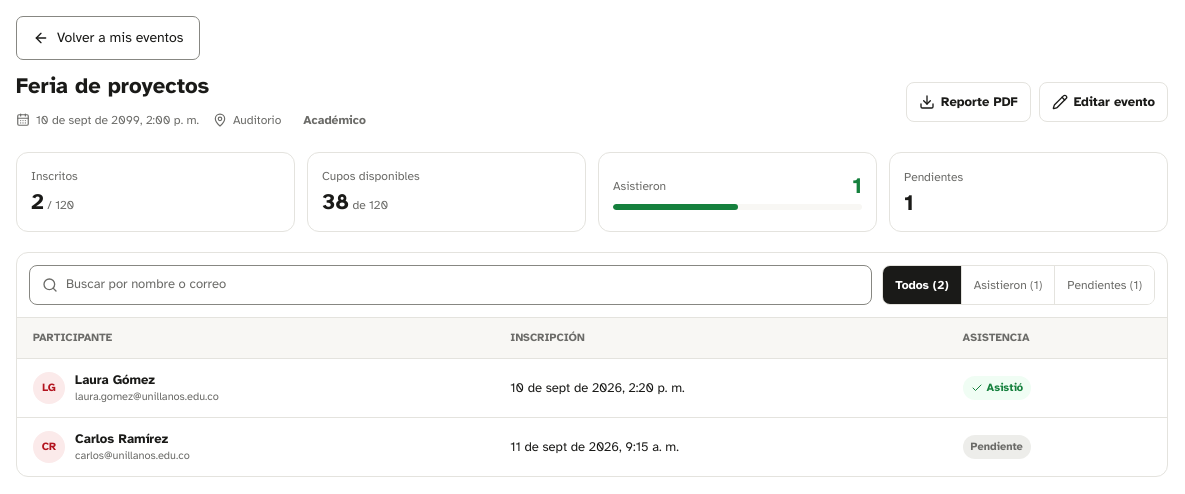
it: ParticipantesEvento › muestra el estado vacío de la búsqueda cuando no hay coincidencias
Step 1. Type "no-existe" into the search field labelled "Buscar por nombre o correo" → (463, 285), box x1=66 y1=275 x2=859 y2=295
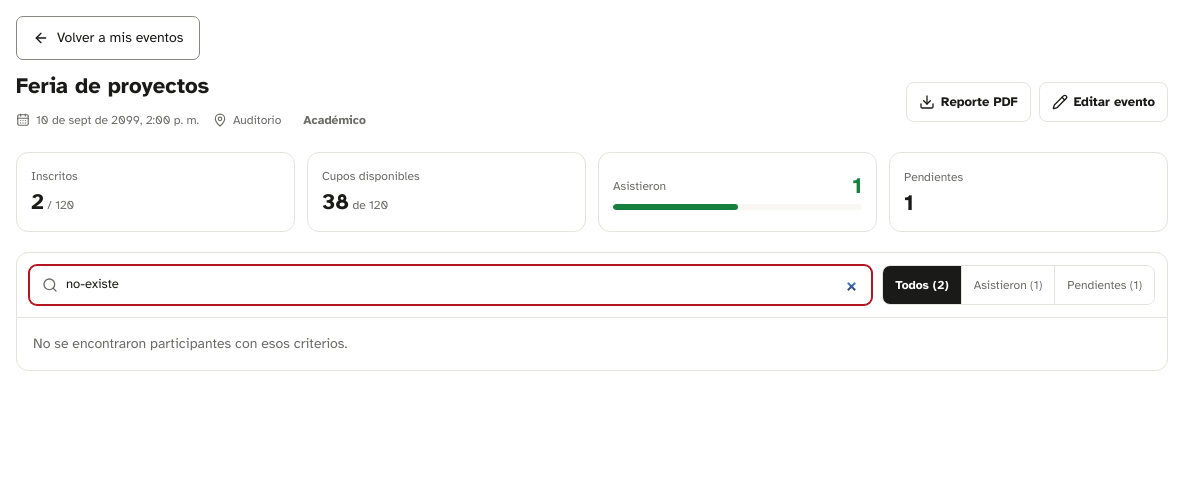
Expected: the message reads "No se encontraron participantes con esos criterios.", x1=33 y1=335 x2=347 y2=352
